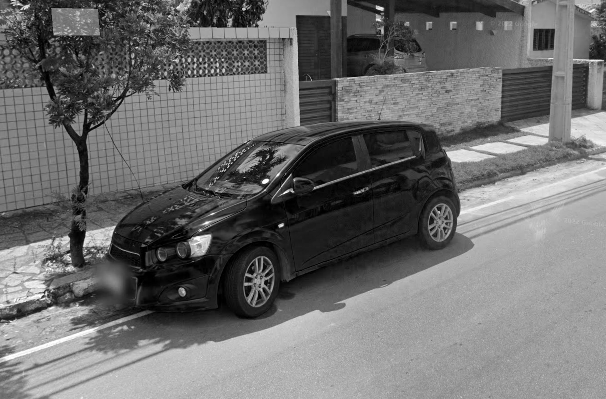car: (102, 95, 467, 323)
